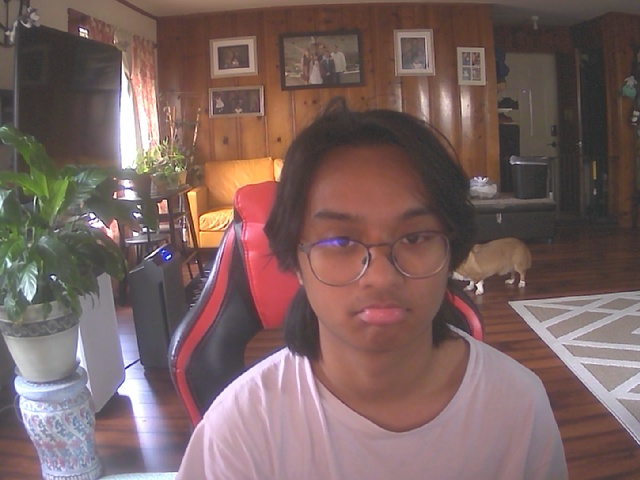sad: (292, 119, 464, 360)
